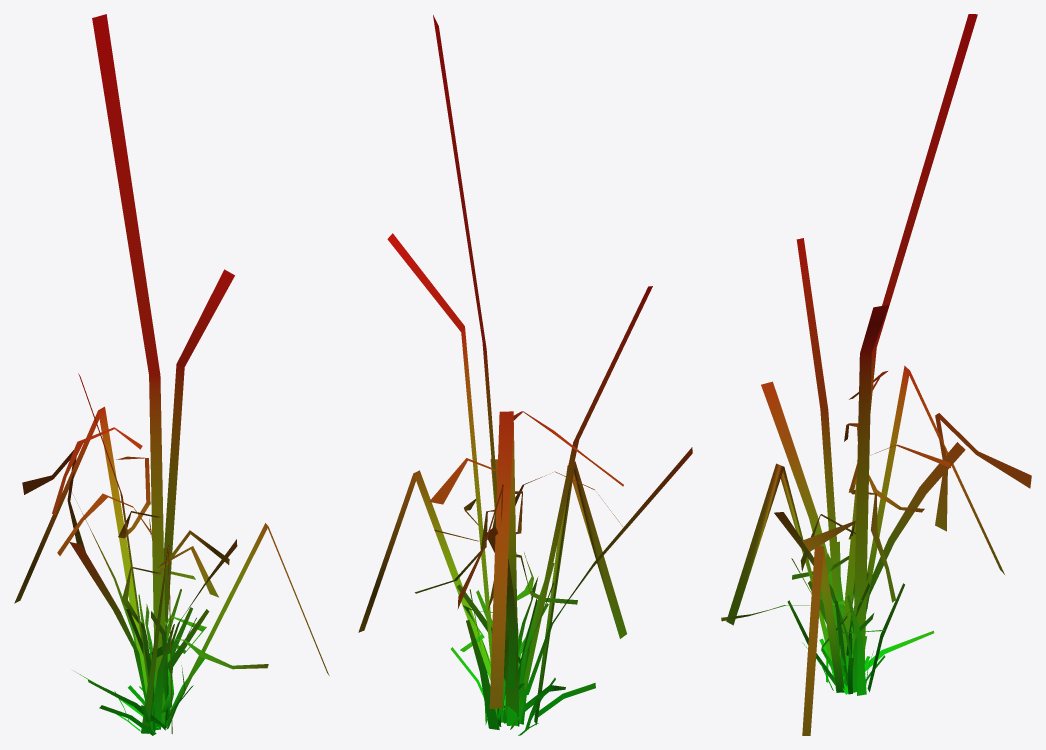
File: Var6_LOD2.fbx
The picture shows the model from 3 angles, left to right: view 1: azimuth 30°, elevation 25°; view 2: azimuth 150°, elevation 25°; view 3: azimuth 270°, elevation 25°; orthographic projection. The views are drawn at different scales.
Visible parts, largest first — view 1: _e7e1_Var6_LOD2; view 2: _e7e1_Var6_LOD2; view 3: _e7e1_Var6_LOD2.
Boxes of the visible parts, x1,y1,x2,y2 form: _e7e1_Var6_LOD2: (14,14,329,735); _e7e1_Var6_LOD2: (358,15,692,735); _e7e1_Var6_LOD2: (721,14,1031,735).
Size of the model in its own units: 25.06 by 58.18 by 23.89.
